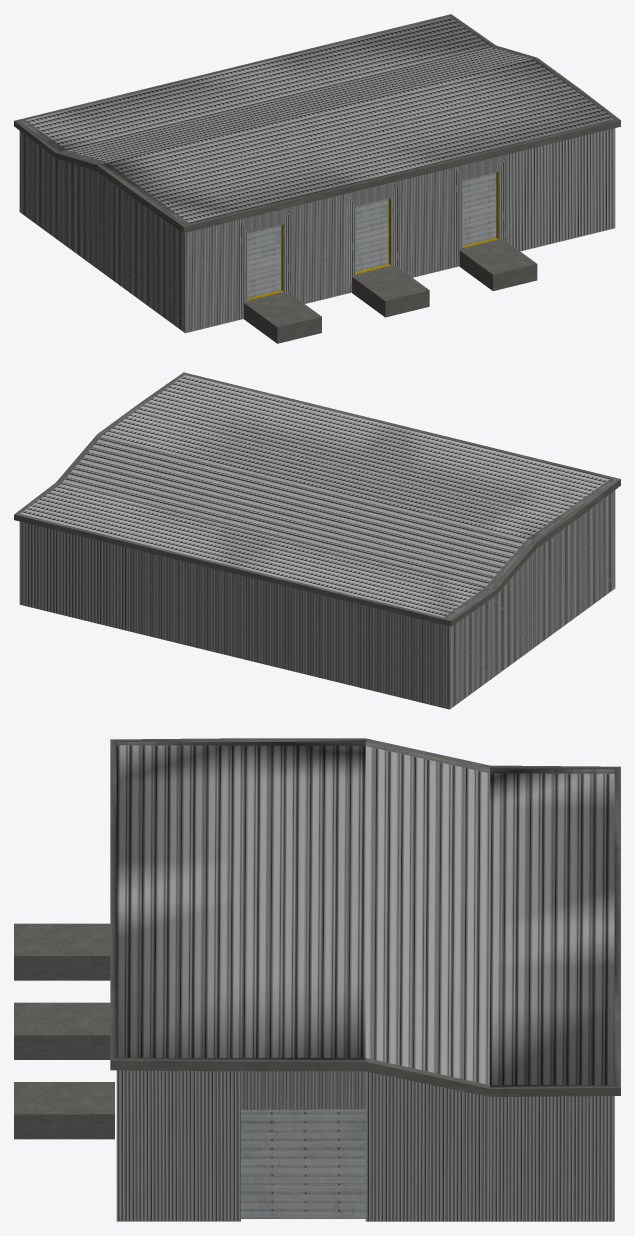
Rendered from warehouse.fbx.
3 renders of one model, top to bottom at view 1: azimuth 30°, elevation 25°; view 2: azimuth 150°, elevation 25°; view 3: azimuth 270°, elevation 25°, orthographic. The views are drawn at different scales.
Visible parts, largest first — view 1: Cube; view 2: Cube; view 3: Cube.
Boxes of the visible parts, x1,y1,x2,y2 form: Cube: (14,14,620,343); Cube: (14,372,620,709); Cube: (14,738,620,1221).
Bounding box in the file's own units: 139 × 32.74 × 110.
Materials: 1 (1 with a texture image).
